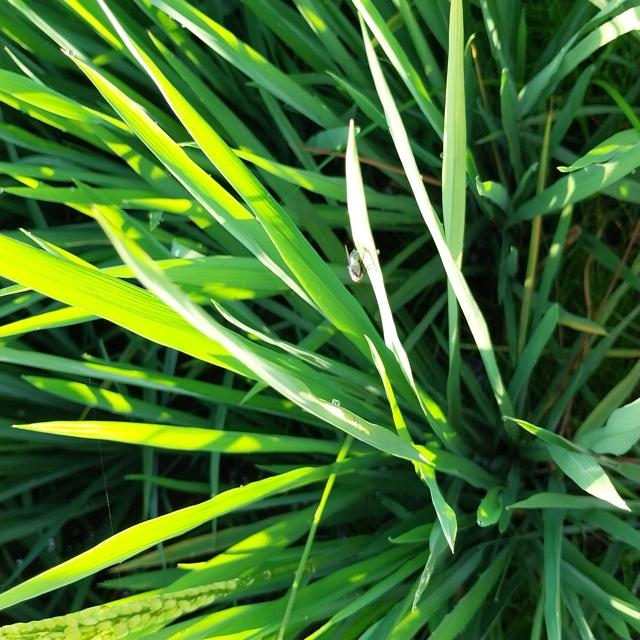Leaf scald: (329, 229, 395, 299)
